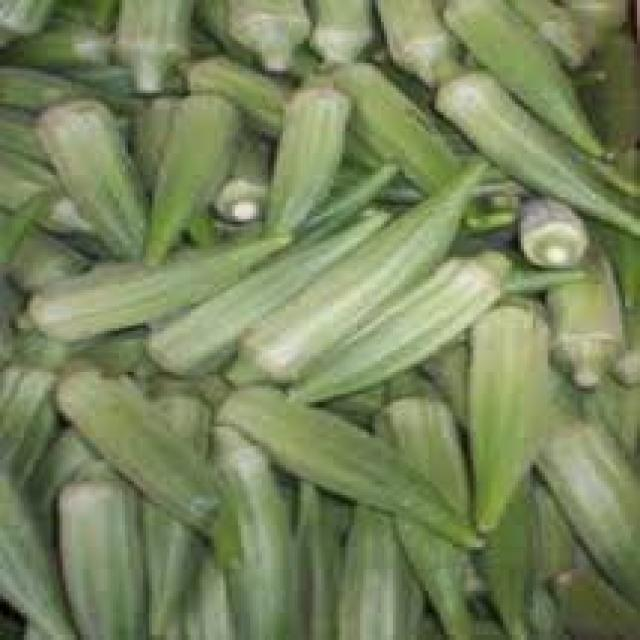organic waste: (218, 156, 482, 386), (202, 380, 480, 542), (134, 208, 387, 377), (9, 205, 327, 339), (140, 208, 384, 375), (429, 52, 637, 238), (51, 361, 241, 563), (280, 246, 506, 402), (313, 57, 509, 230), (441, 0, 598, 156), (375, 375, 467, 637), (530, 402, 637, 602), (536, 394, 637, 596), (202, 421, 295, 637), (464, 293, 548, 528), (33, 82, 140, 254), (140, 87, 241, 266), (143, 386, 211, 637), (56, 454, 146, 637), (125, 93, 220, 243), (259, 66, 345, 227), (0, 454, 71, 637), (542, 244, 622, 388), (339, 503, 423, 638), (470, 476, 536, 637), (0, 342, 68, 495), (164, 46, 280, 132), (330, 153, 512, 200), (286, 482, 336, 638), (369, 0, 459, 85), (0, 147, 86, 232), (110, 0, 190, 90), (551, 558, 637, 637), (542, 566, 637, 637), (312, 158, 399, 232), (223, 0, 310, 71), (503, 0, 589, 71), (0, 221, 89, 289), (6, 14, 110, 71), (208, 123, 271, 216), (515, 194, 589, 268), (604, 230, 637, 388), (578, 374, 637, 460), (0, 189, 54, 276), (300, 0, 375, 57), (572, 142, 637, 202), (0, 63, 77, 107), (48, 0, 119, 33), (503, 266, 581, 296), (0, 115, 45, 161), (0, 0, 45, 44), (569, 0, 622, 36), (20, 618, 48, 637)
